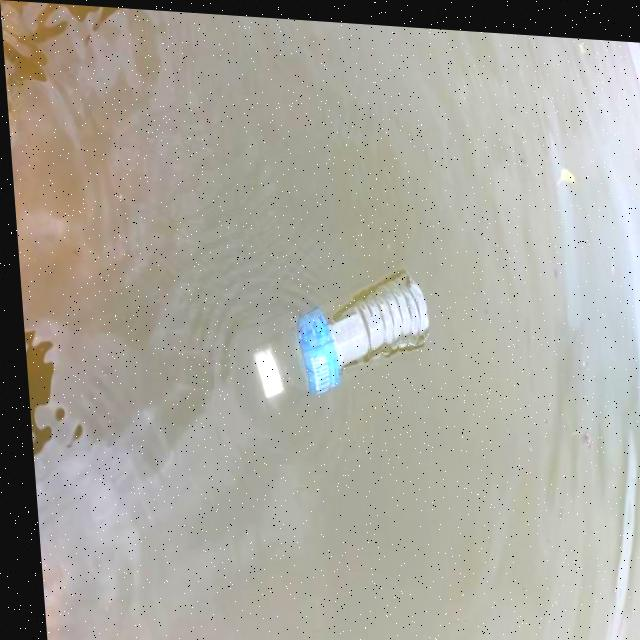waterbottle: (235, 247, 437, 423)
